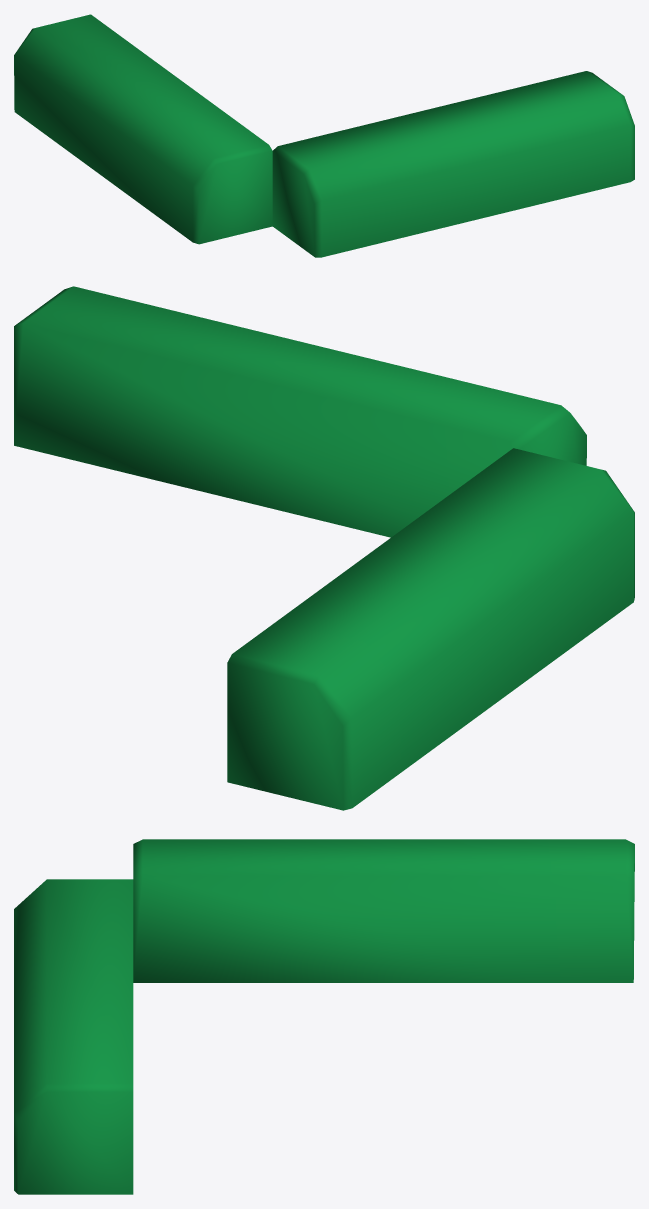
File: SM_Border_40.fbx
3 renders of one model, top to bottom at view 1: azimuth 30°, elevation 25°; view 2: azimuth 150°, elevation 25°; view 3: azimuth 270°, elevation 25°, orthographic. The views are drawn at different scales.
Visible parts, largest first — view 1: SM_Border_40; view 2: SM_Border_40; view 3: SM_Border_40.
Boxes of the visible parts, x1=… form: SM_Border_40: x1=14, y1=14, x2=634, y2=257; SM_Border_40: x1=14, y1=286, x2=634, y2=810; SM_Border_40: x1=14, y1=839, x2=634, y2=1194.
Size of the model in its own units: 37.15 by 7.09 by 37.23.
1 material, 1 textured.
